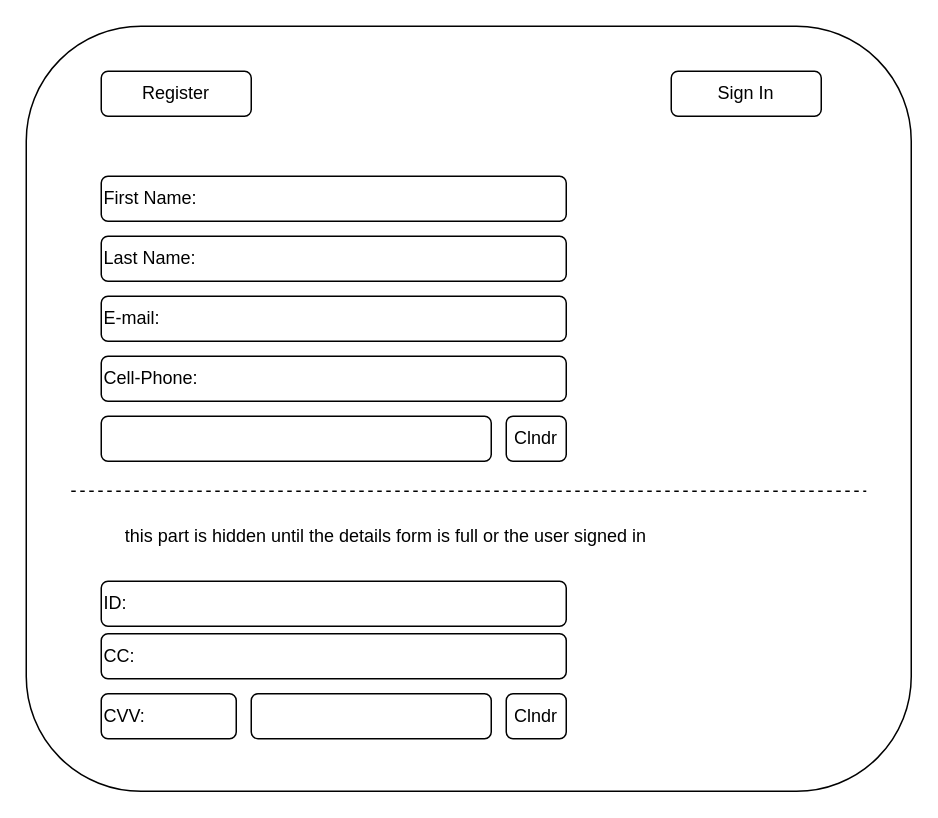
Some shapes in this 938 by 818 pixel diagram are drawn without their labels. The shapes that lost their labels are listed below. From the top down, each one's centre as x and y in pixels, then its label:
(295,438): Birthdate:
(370,715): Exp. Date:
